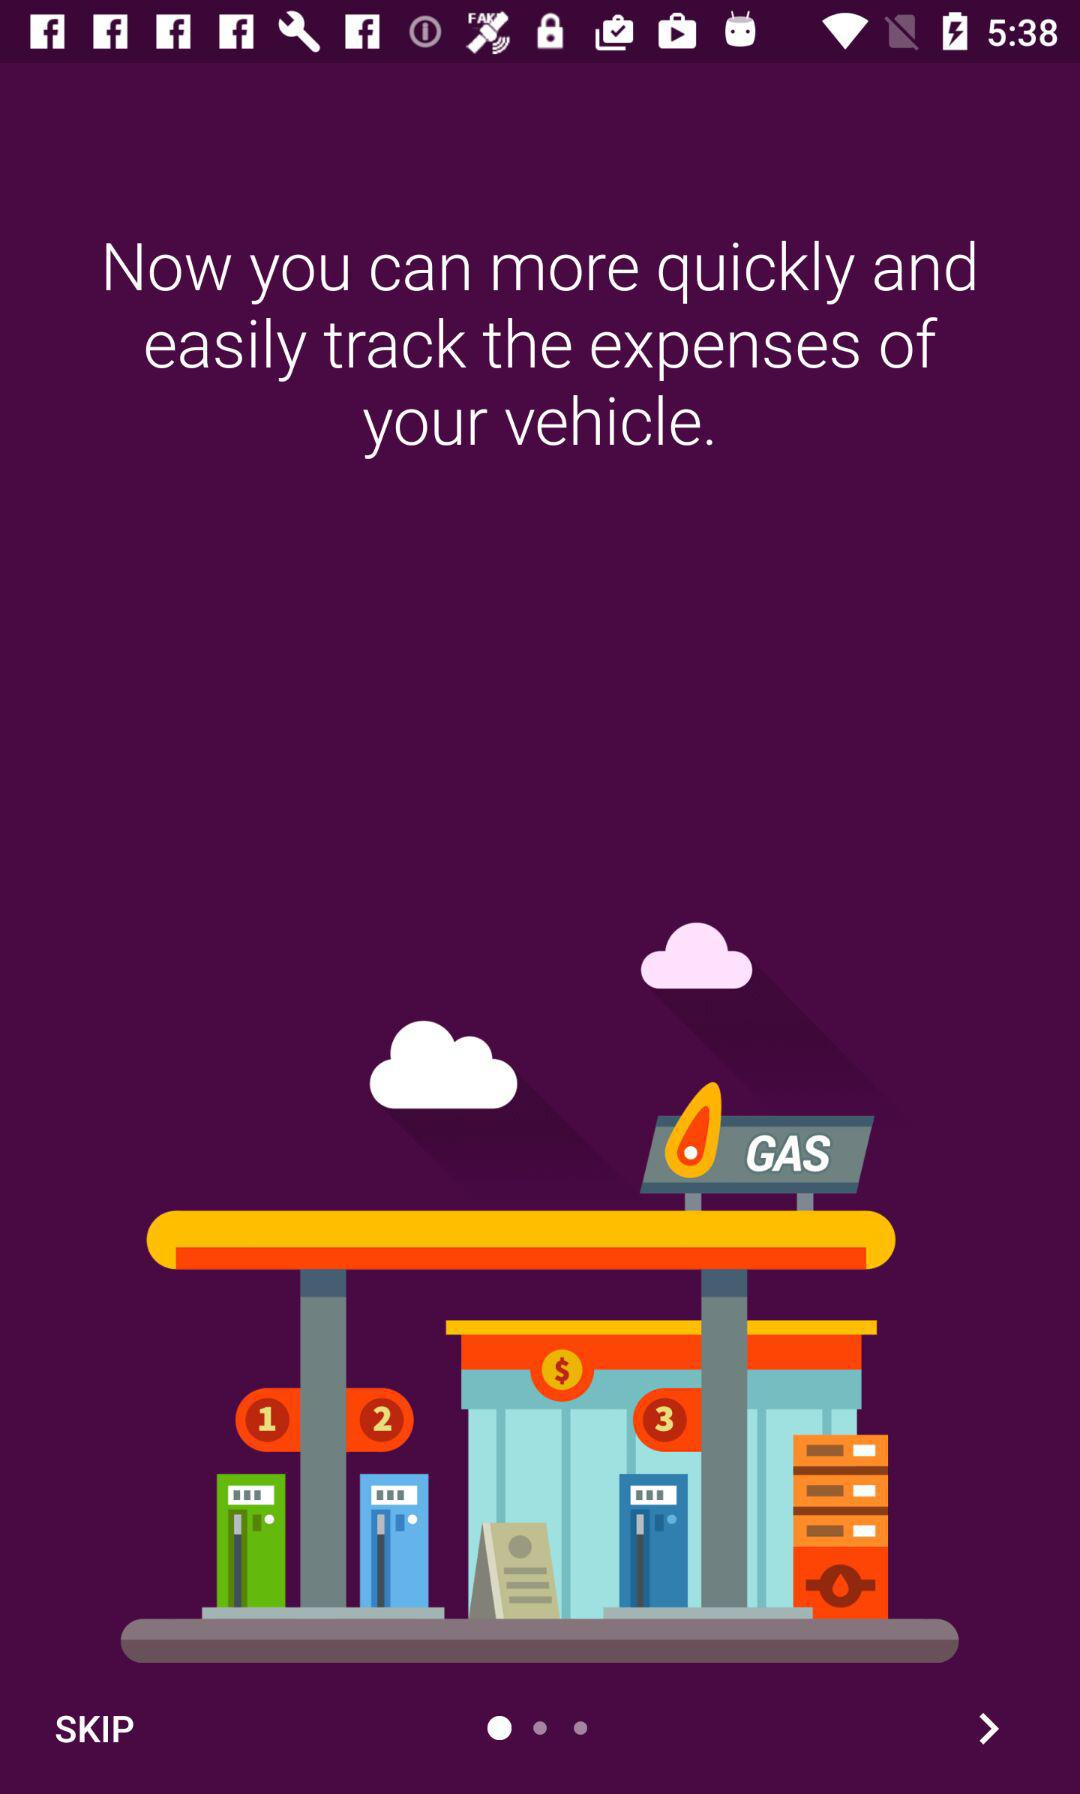Icon: (978, 1712, 1001, 1747)
Image: (119, 921, 961, 1665)
PageIndicator: (486, 1715, 589, 1741)
Text: (105, 240, 978, 463), (55, 1715, 135, 1744)
UpperTaskBar: (1, 1, 1080, 64)
